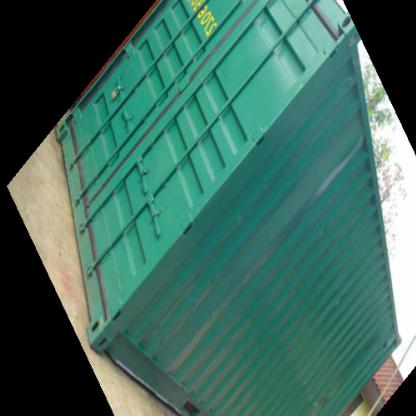Damage: (154, 282, 254, 380), (312, 138, 370, 204), (293, 360, 342, 415), (332, 289, 350, 313)
